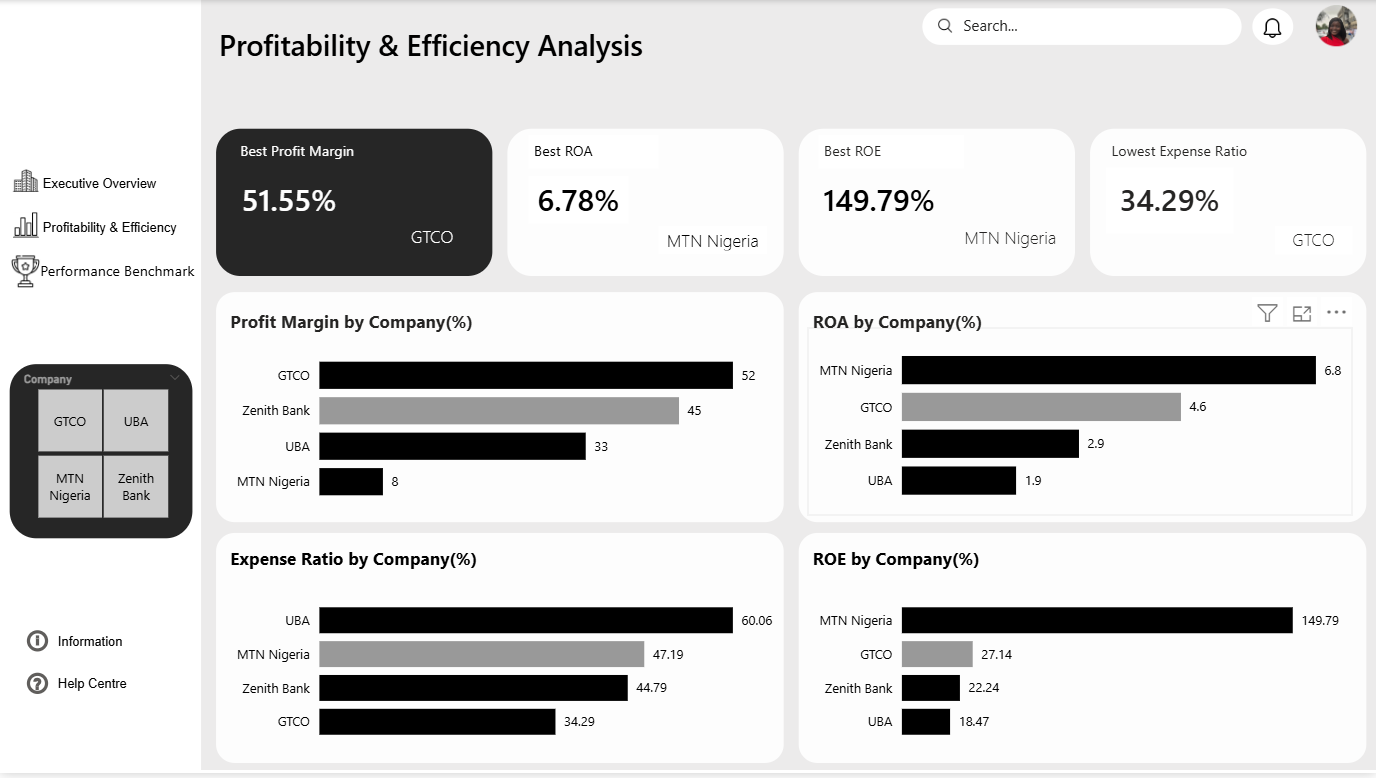

This screenshot's page, from the dashboard's own definition file:
{"tool":"powerbi","page":{"name":"Page 2","canvas":[1280,720],"ordinal":1},"visuals":[{"type":"card","fields":{"Values":["Measures (2).Best Profit Margin"]},"box":[218.6,157,101.2,58.1],"z":0},{"type":"textbox","box":[218.6,125.6,231.4,31.4],"z":1000},{"type":"card","fields":{"Values":["Measures (2).Best ROA"]},"box":[491.9,164,93,44.2],"z":2000},{"type":"textbox","box":[491.9,125.6,120.9,31.4],"z":3000},{"type":"card","fields":{"Values":["Measures (2).Best ROE"]},"box":[751.2,161.6,133.7,48.8],"z":4000},{"type":"card","fields":{"Values":["Measures (2).Best Profit Margin Company"]},"box":[365.1,208.1,74.4,26.7],"z":5000},{"type":"card","fields":{"Values":["Measures (2).Best ROA Comapny"]},"box":[612.8,210.5,101.2,25.6],"z":6000},{"type":"textbox","box":[761.6,125.6,134.9,31.4],"z":7000},{"type":"card","fields":{"Values":["Measures (2).Best ROE Company"]},"box":[884.9,209.3,110.5,27.9],"z":8000},{"type":"card","fields":{"Values":["Measures (2).Lowest Expense Ratio"]},"box":[1029.1,155.8,118.6,61.6],"z":9000},{"type":"textbox","box":[1029.1,125.6,144.2,36],"z":10000},{"type":"card","fields":{"Values":["Measures (2).Lowest Expense Ratio Company"]},"box":[1186,210.5,72.1,26.7],"z":11000},{"type":"clusteredBarChart","fields":{"Y":["Avg(scorecard.avg_profit_margin)"],"Category":["scorecard.company"]},"box":[209.3,310.5,516.3,169.8],"z":12000},{"type":"textbox","box":[209.3,282.6,420.9,44.2],"z":13000},{"type":"clusteredBarChart","fields":{"Category":["scorecard.company"],"Y":["Avg(scorecard.avg_roa)"]},"box":[751.2,304.7,507,175.6],"z":14000},{"type":"textbox","box":[751.2,282.6,291.9,44.2],"z":15000},{"type":"clusteredBarChart","fields":{"Category":["scorecard.company"],"Y":["Sum(scorecard.avg_roe)"]},"box":[751.2,539.5,507,162.8],"z":16000},{"type":"textbox","box":[751.2,503.5,507,36],"z":17000},{"type":"clusteredBarChart","fields":{"Category":["scorecard.company"],"Y":["Sum(scorecard.avg_expense_ratio)"]},"box":[209.3,539.5,516.3,162.8],"z":18000},{"type":"textbox","box":[209.3,503.5,308.1,36],"z":19000},{"type":"slicer","fields":{"Values":["scorecard.company"]},"box":[9.3,340.7,170.9,147.7],"z":20000},{"type":"textbox","box":[198.8,18.6,630.2,47.7],"z":21000},{"type":"textbox","box":[851.2,9.3,305.8,41.9],"z":22000},{"type":"image","box":[861.6,17.4,34.9,12.8],"z":23000},{"type":"image","box":[1173.3,9.3,20.9,33.7],"z":24000},{"type":"textbox","box":[34.9,155.8,145.3,31.4],"z":25000},{"type":"textbox","box":[34.9,196.5,147.7,38.4],"z":26000},{"type":"textbox","box":[32.6,237.2,166.3,31.4],"z":27000},{"type":"image","box":[4.7,157,39.5,24.4],"z":28000},{"type":"image","box":[9.3,197.7,29.1,23.3],"z":29000},{"type":"image","box":[9.3,236,29.1,32.6],"z":30000},{"type":"textbox","box":[48.8,581.4,133.7,30.2],"z":31000},{"type":"textbox","box":[48.8,620.9,81.4,41.9],"z":32000},{"type":"actionButton","box":[20.9,581.4,27.9,30.2],"z":33000},{"type":"actionButton","box":[20.9,620.9,27.9,29.1],"z":34000},{"type":"actionButton","box":[32.6,237.2,147.7,31.4],"z":35000},{"type":"actionButton","box":[36.4,196,132.6,28.2],"z":36000},{"type":"actionButton","box":[38.7,156.1,118.5,31.7],"z":37000},{"type":"image","box":[1222.7,4.7,39.9,38.7],"z":38000}]}

Visuals, with their boxes on the page's 1280x720 design canvas (x1, y1, x2, y2). These are canvas units, not pixel positions in the 1376x778 screenshot, which may show the page scaled, cropped or inside an application window:
card - Measures (2).Best Profit Margin: crop(219, 157, 320, 215)
textbox: crop(219, 126, 450, 157)
card - Measures (2).Best ROA: crop(492, 164, 585, 208)
textbox: crop(492, 126, 613, 157)
card - Measures (2).Best ROE: crop(751, 162, 885, 210)
card - Measures (2).Best Profit Margin Company: crop(365, 208, 440, 235)
card - Measures (2).Best ROA Comapny: crop(613, 210, 714, 236)
textbox: crop(762, 126, 896, 157)
card - Measures (2).Best ROE Company: crop(885, 209, 995, 237)
card - Measures (2).Lowest Expense Ratio: crop(1029, 156, 1148, 217)
textbox: crop(1029, 126, 1173, 162)
card - Measures (2).Lowest Expense Ratio Company: crop(1186, 210, 1258, 237)
clusteredBarChart - Avg(scorecard.avg_profit_margin) x scorecard.company: crop(209, 310, 726, 480)
textbox: crop(209, 283, 630, 327)
clusteredBarChart - scorecard.company x Avg(scorecard.avg_roa): crop(751, 305, 1258, 480)
textbox: crop(751, 283, 1043, 327)
clusteredBarChart - scorecard.company x Sum(scorecard.avg_roe): crop(751, 540, 1258, 702)
textbox: crop(751, 504, 1258, 540)
clusteredBarChart - scorecard.company x Sum(scorecard.avg_expense_ratio): crop(209, 540, 726, 702)
textbox: crop(209, 504, 517, 540)
slicer - scorecard.company: crop(9, 341, 180, 488)
textbox: crop(199, 19, 829, 66)
textbox: crop(851, 9, 1157, 51)
image: crop(862, 17, 896, 30)
image: crop(1173, 9, 1194, 43)
textbox: crop(35, 156, 180, 187)
textbox: crop(35, 196, 183, 235)
textbox: crop(33, 237, 199, 269)
image: crop(5, 157, 44, 181)
image: crop(9, 198, 38, 221)
image: crop(9, 236, 38, 269)
textbox: crop(49, 581, 182, 612)
textbox: crop(49, 621, 130, 663)
actionButton: crop(21, 581, 49, 612)
actionButton: crop(21, 621, 49, 650)
actionButton: crop(33, 237, 180, 269)
actionButton: crop(36, 196, 169, 224)
actionButton: crop(39, 156, 157, 188)
image: crop(1223, 5, 1263, 43)
